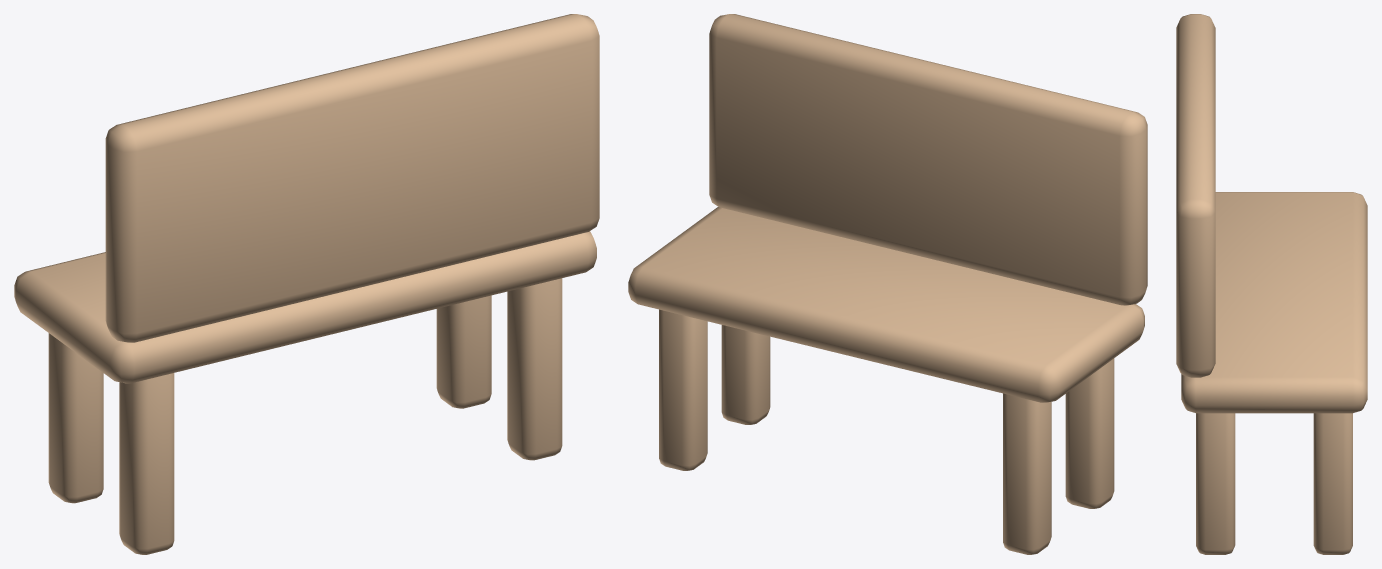
The model's file is cozy_bench_A.glb.
3 renders of one model, left to right at view 1: azimuth 30°, elevation 25°; view 2: azimuth 150°, elevation 25°; view 3: azimuth 270°, elevation 25°, orthographic. The views are drawn at different scales.
Visible parts, largest first — view 1: Back, Seat, Leg_-0.38_-0.12, Leg_0.38_-0.12, Leg_-0.38_0.12, Leg_0.38_0.12; view 2: Back, Seat, Leg_-0.38_0.12, Leg_0.38_0.12, Leg_-0.38_-0.12, Leg_0.38_-0.12; view 3: Seat, Back, Leg_0.38_0.12, Leg_0.38_-0.12.
Part boxes in pixels (box(x1,y1,x2,y2)): Back: box(105, 14, 599, 342); Seat: box(14, 231, 596, 383); Leg_-0.38_-0.12: box(119, 373, 174, 554); Leg_0.38_-0.12: box(507, 278, 562, 460); Leg_-0.38_0.12: box(48, 333, 103, 503); Leg_0.38_0.12: box(436, 295, 491, 408); Back: box(709, 14, 1147, 305); Seat: box(628, 207, 1144, 402); Leg_-0.38_0.12: box(1003, 393, 1051, 554); Leg_0.38_0.12: box(659, 309, 707, 470); Leg_-0.38_-0.12: box(1065, 358, 1114, 508); Leg_0.38_-0.12: box(721, 325, 770, 424); Seat: box(1181, 192, 1367, 413); Back: box(1176, 14, 1215, 377); Leg_0.38_0.12: box(1313, 413, 1352, 554); Leg_0.38_-0.12: box(1196, 413, 1235, 554).
Size of the model in its own units: 0.95 by 0.82 by 0.39.
